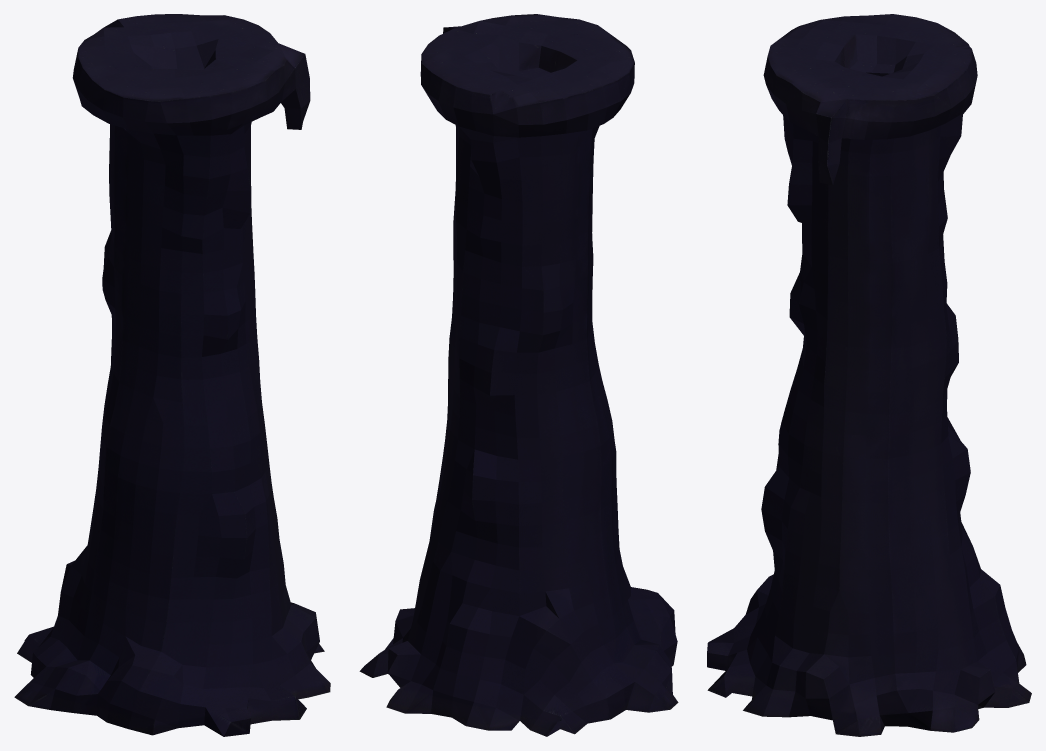
The model's file is p_stonepilla.glb.
3 renders of one model, left to right at view 1: azimuth 30°, elevation 25°; view 2: azimuth 150°, elevation 25°; view 3: azimuth 270°, elevation 25°, orthographic.
Parts seen in each view (by area): view 1: Mesh_0; view 2: Mesh_0; view 3: Mesh_0.
Boxes of the visible parts, x1,y1,x2,y2 form: Mesh_0: [14, 14, 330, 736]; Mesh_0: [359, 14, 678, 736]; Mesh_0: [707, 14, 1031, 736].
Size of the model in its own units: 0.9081 by 1.9 by 0.8995.
1 material, 1 textured.
